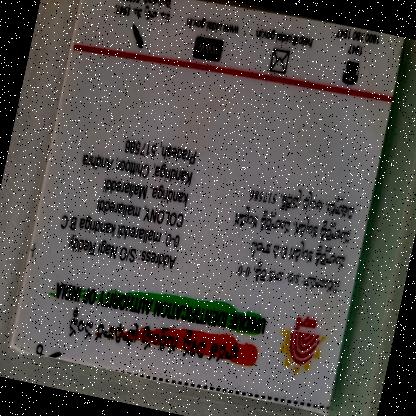aadhaar_card: (0, 0, 409, 415)
